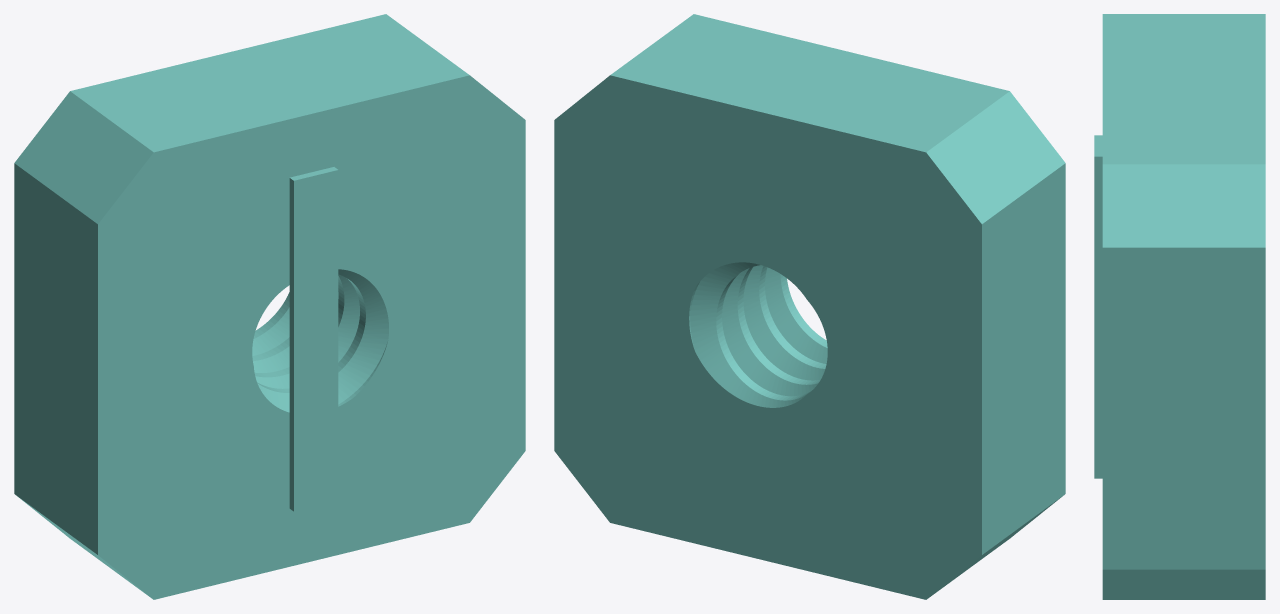
File: tslot_nut_demo.glb
3 views of the same model, side by side, from view 1: azimuth 30°, elevation 25°; view 2: azimuth 150°, elevation 25°; view 3: azimuth 270°, elevation 25° (orthographic). The views are drawn at different scales.
Parts seen in each view (by area): view 1: tslot_nut; view 2: tslot_nut; view 3: tslot_nut.
Boxes of the visible parts, x1,y1,x2,y2 form: tslot_nut: (14, 14, 525, 599); tslot_nut: (554, 14, 1065, 599); tslot_nut: (1094, 14, 1265, 599).
Bounding box in the file's own units: 11.5 × 11.5 × 4.1.
